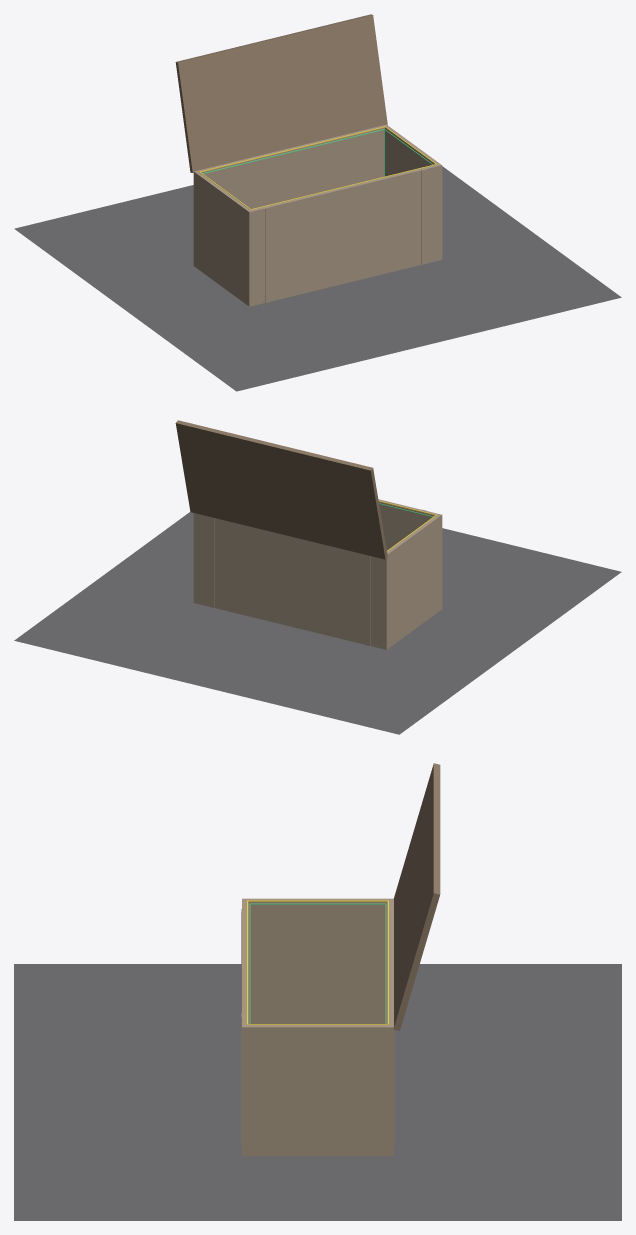
The model's file is HakoOnna_Pose_Nagamochi.glb.
The picture shows the model from 3 angles, top to bottom: view 1: azimuth 30°, elevation 25°; view 2: azimuth 150°, elevation 25°; view 3: azimuth 270°, elevation 25°; orthographic projection. The views are drawn at different scales.
Visible parts, largest first — view 1: Floor, Shell, Open_Lid, Opening; view 2: Floor, Shell, Open_Lid; view 3: Floor, Shell, Open_Lid, Opening, SafeZone_1.5cm.
Boxes of the visible parts, x1,y1,x2,y2 form: Floor: (14, 166, 621, 391); Shell: (193, 124, 442, 306); Open_Lid: (175, 14, 387, 172); Opening: (199, 126, 436, 209); Floor: (14, 512, 621, 734); Shell: (193, 499, 442, 649); Open_Lid: (175, 420, 387, 559); Floor: (14, 964, 621, 1220); Shell: (241, 898, 394, 1156); Open_Lid: (393, 763, 440, 1030); Opening: (247, 900, 388, 1024); SafeZone_1.5cm: (249, 903, 386, 1023).
Bounding box in the file's own units: 4 × 1.92 × 4.
